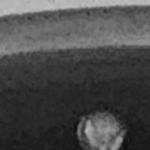colony: (69, 106, 134, 150)
